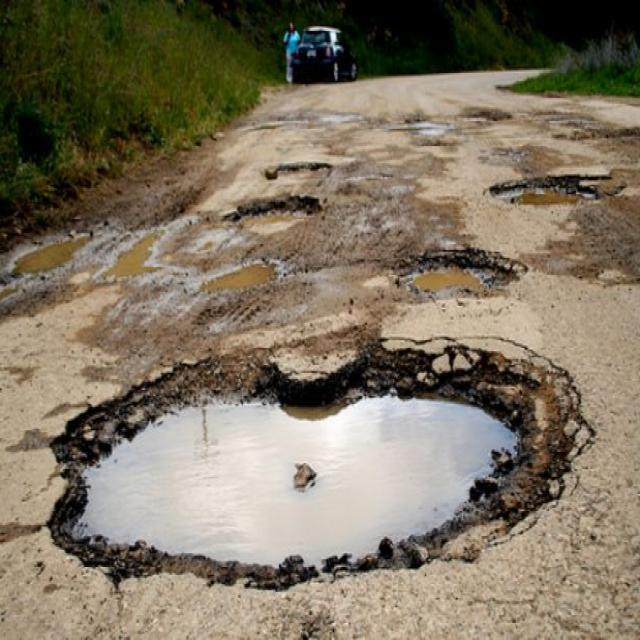pothole: (46, 332, 594, 592), (396, 244, 532, 303), (485, 164, 614, 208), (222, 182, 324, 234)
